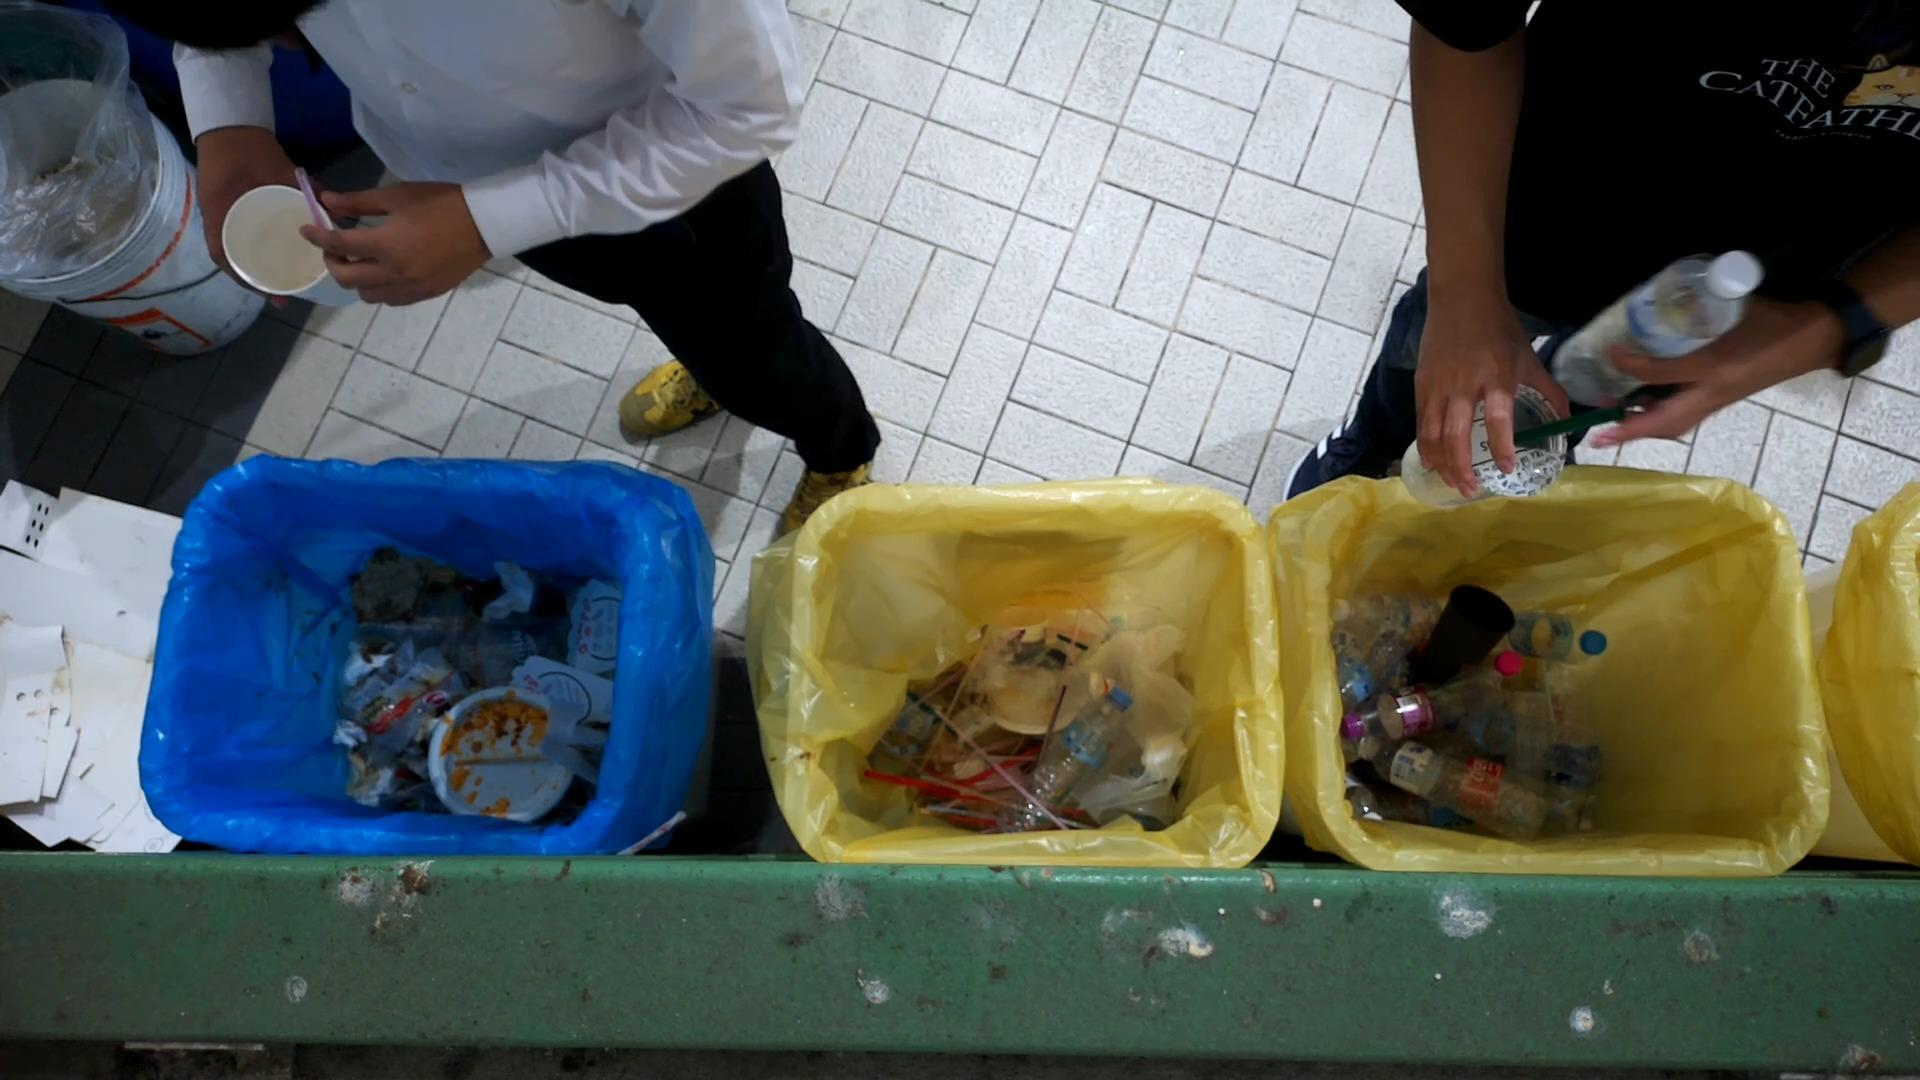dirty food container: (433, 675, 583, 818)
food container: (539, 559, 628, 661), (551, 647, 622, 745), (982, 601, 1054, 657)
plastic bag: (1085, 618, 1204, 822)
plastic bottle: (1539, 249, 1764, 411), (1356, 735, 1551, 847), (1001, 676, 1137, 816), (1337, 673, 1502, 745), (1464, 704, 1606, 785), (1505, 604, 1611, 676), (1335, 587, 1448, 641)
plastic cup: (1396, 385, 1569, 521), (1400, 585, 1532, 707)
snack packaging: (339, 637, 450, 736)
sticks: (458, 741, 596, 753)
straw: (943, 698, 1080, 836), (903, 690, 1013, 781), (861, 769, 1002, 811), (1509, 406, 1619, 459), (1025, 679, 1073, 781), (293, 166, 330, 240)
tissue paper: (472, 563, 542, 626), (1145, 736, 1192, 794)
zero waste cup: (212, 179, 371, 318)
